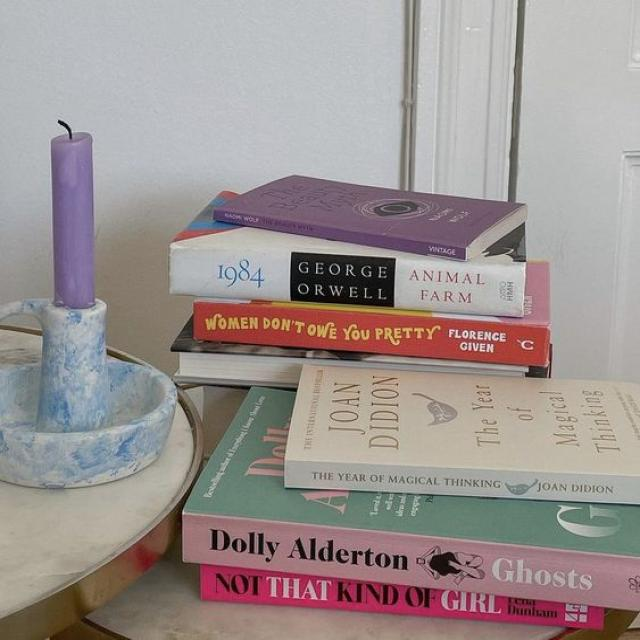book: (183, 512, 640, 611), (201, 567, 604, 632), (166, 246, 522, 316), (192, 301, 549, 366), (284, 458, 640, 504), (212, 207, 468, 261)
candle: (0, 132, 176, 488)
